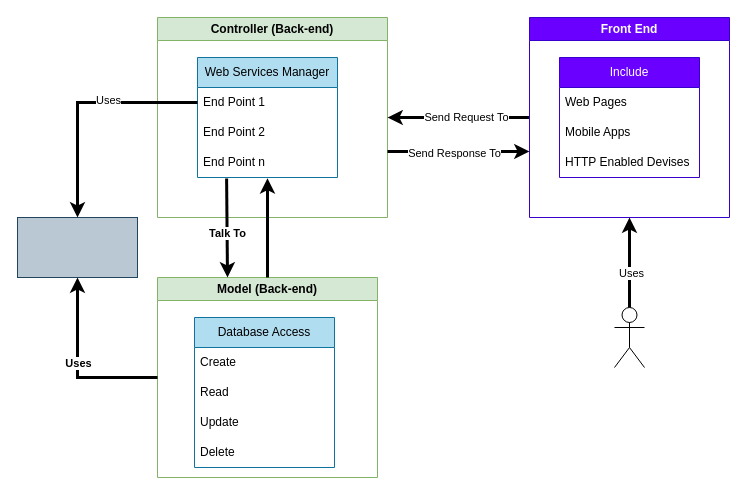
The diagram is 747 pixels wide and 495 high, and some of its shapes have lost their labels. Each missing label, with the centre of its shape:
Actor: the point at 629,337
Entity Class: the point at 77,247
